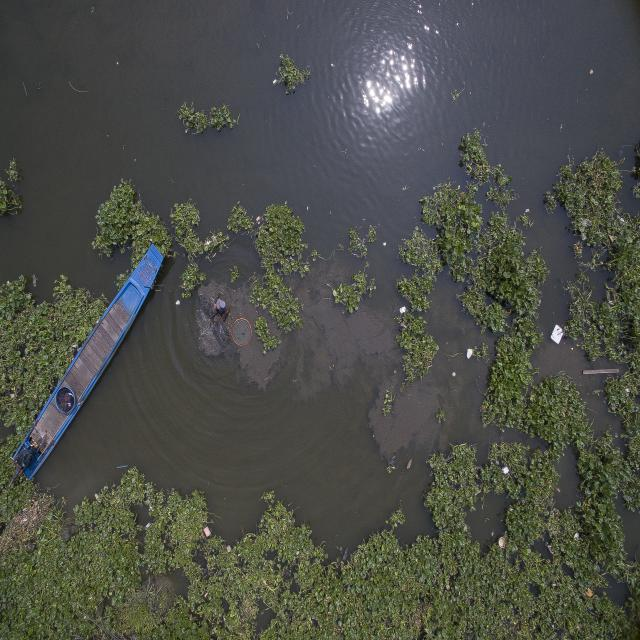plastic: (193, 224, 223, 260), (546, 314, 570, 358), (500, 463, 515, 491), (572, 522, 584, 554), (496, 533, 512, 556), (399, 292, 410, 323), (462, 342, 478, 363), (172, 294, 186, 316), (251, 212, 264, 227), (272, 75, 280, 88)
